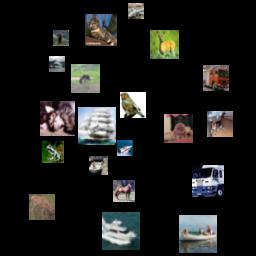airplane: (128, 3, 144, 19)
bird: (71, 64, 100, 93), (120, 92, 146, 118)
cat: (40, 101, 75, 136), (85, 14, 117, 46), (164, 114, 193, 143), (207, 111, 233, 137)
deer: (150, 30, 179, 59), (29, 194, 55, 220), (53, 30, 69, 46)
frog: (42, 141, 64, 163)
ship: (78, 107, 116, 145), (102, 212, 140, 250), (179, 215, 217, 253), (89, 156, 108, 175), (49, 56, 65, 72), (117, 140, 133, 156)
truck: (192, 165, 224, 197), (203, 65, 229, 91)
